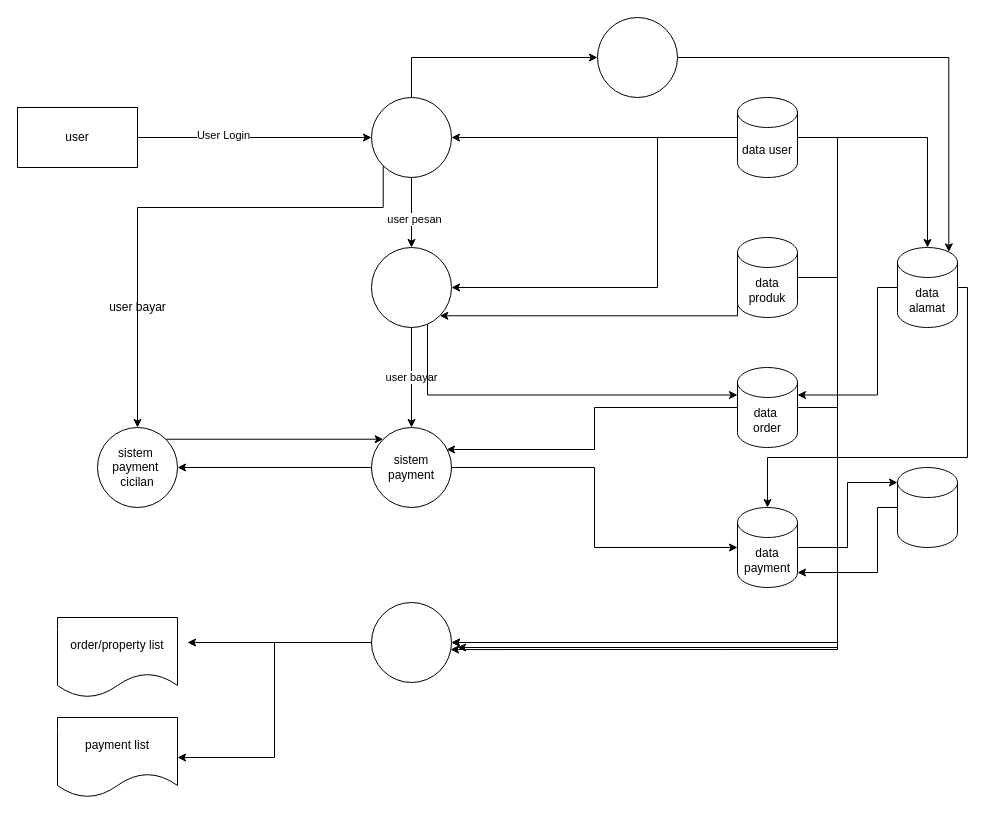
Some shapes in this 993 by 815 pixel diagram are drawn without their labels. Here are the shapes that lost their labels. From the top down, the box of each, then its label:
(596, 16, 678, 98): sistem alamat
(370, 96, 452, 178): Sistem Login
(370, 246, 452, 328): Sistem ordering
(896, 466, 958, 548): data detail payment
(370, 602, 452, 682): sistem viewer
